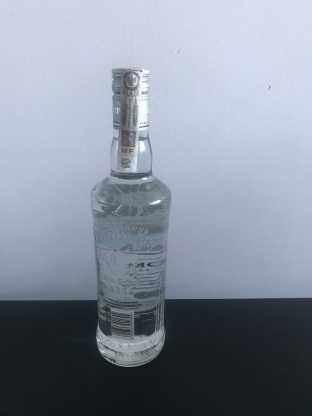nakretka: (108, 62, 153, 133)
